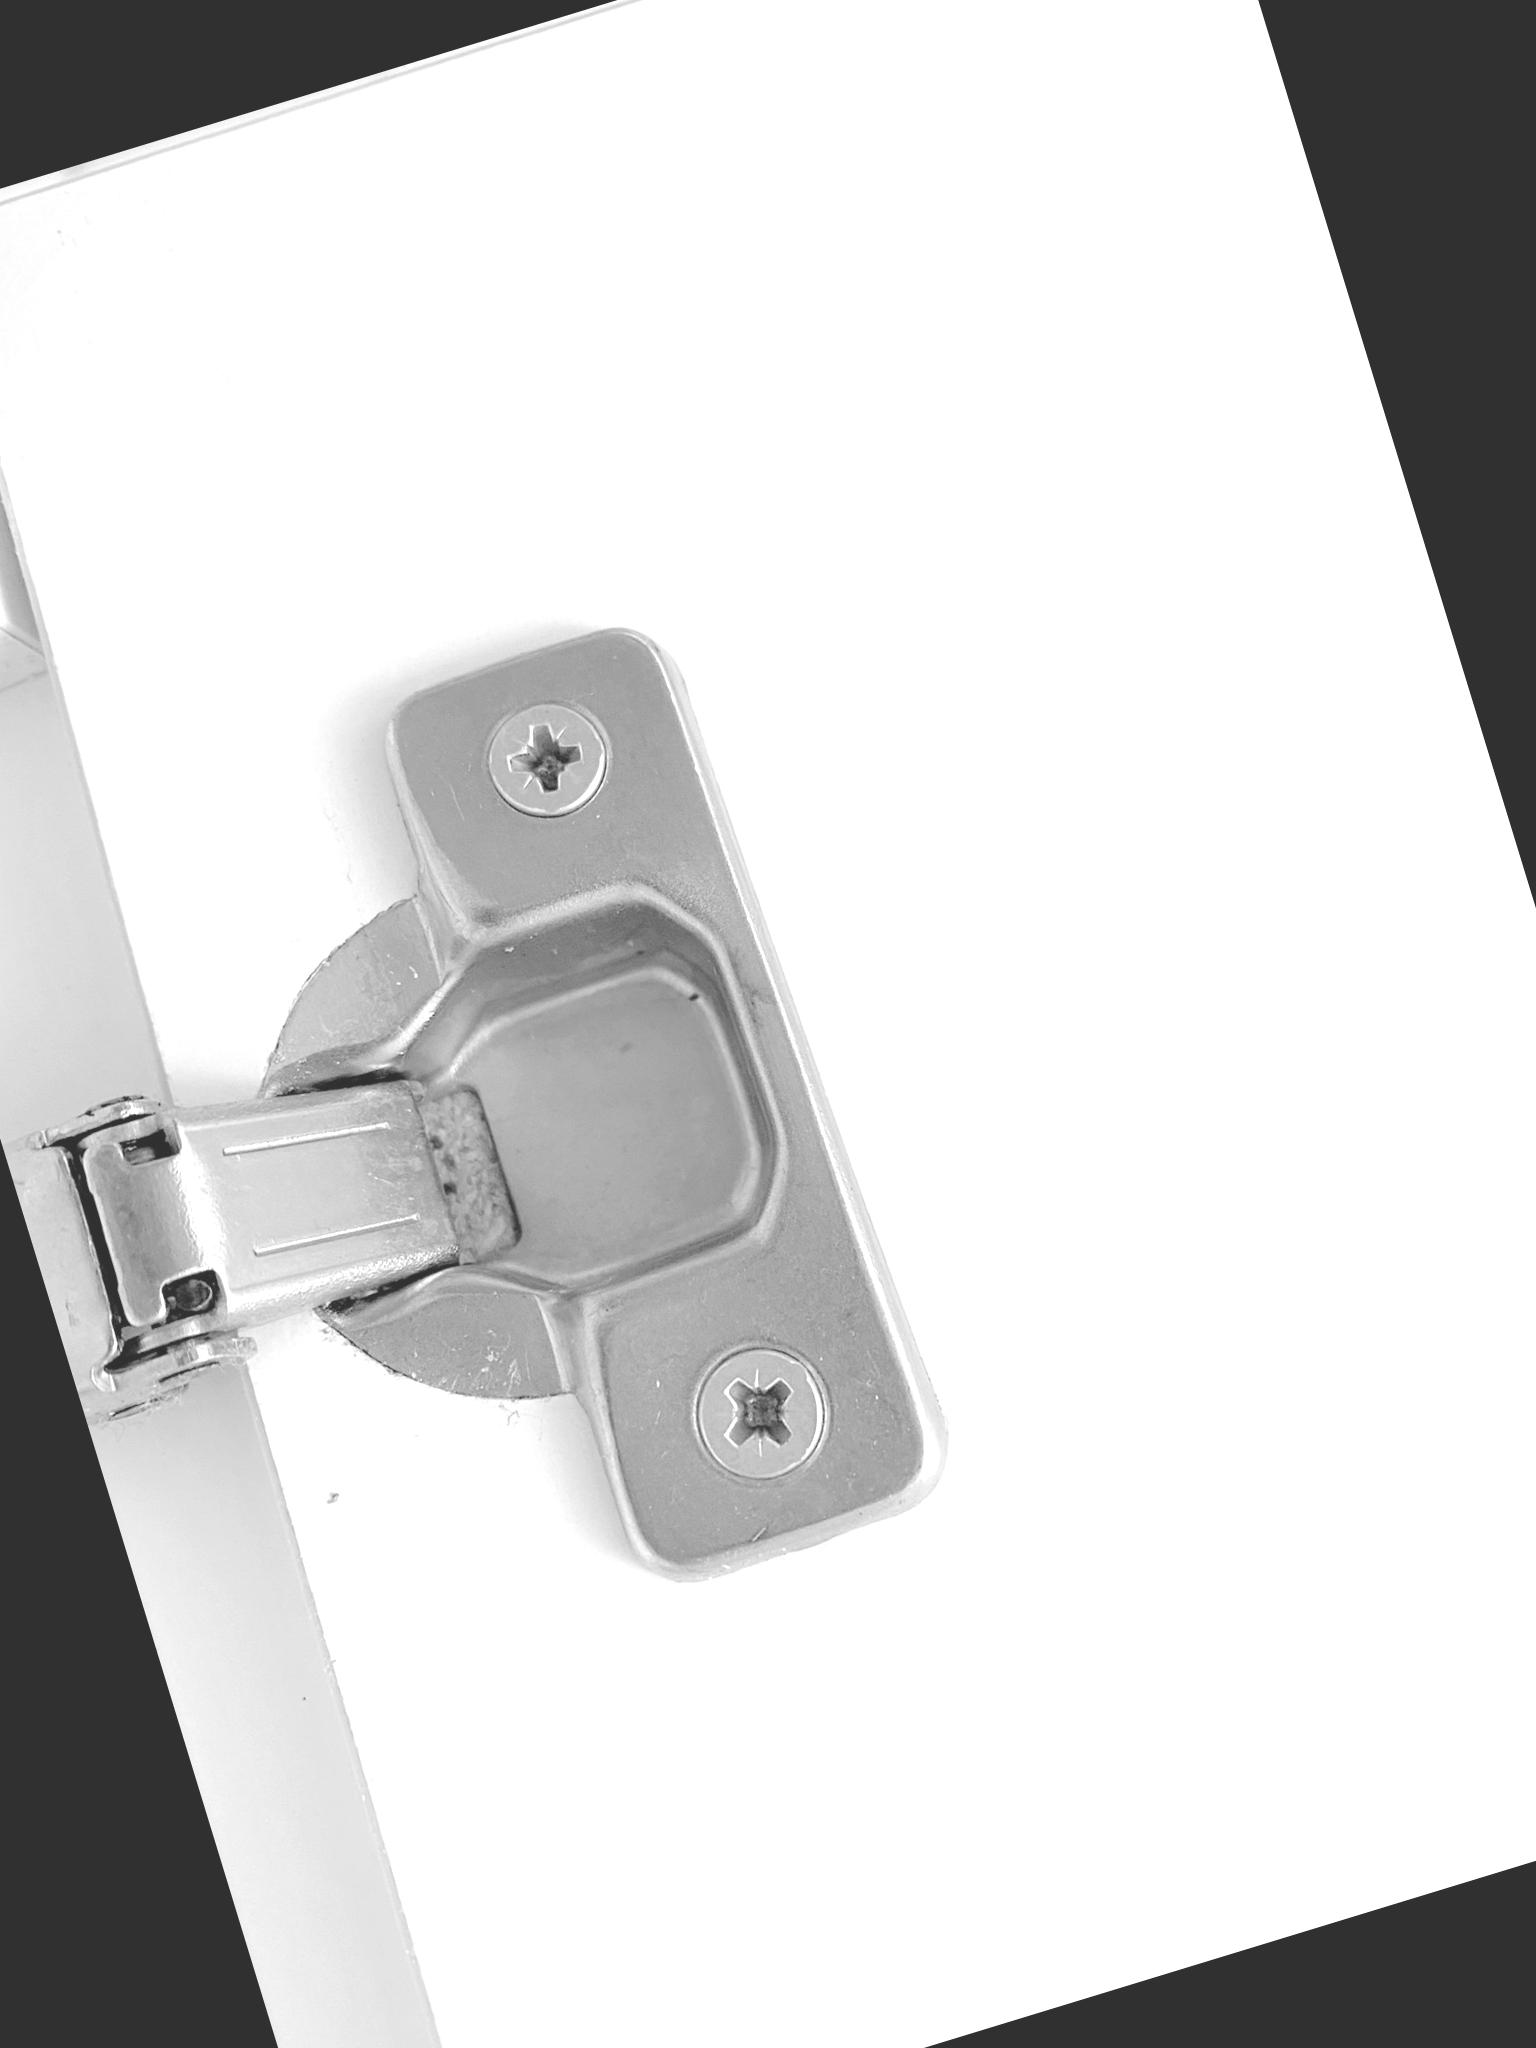screw: (678, 1329, 845, 1500), (466, 681, 624, 837)
